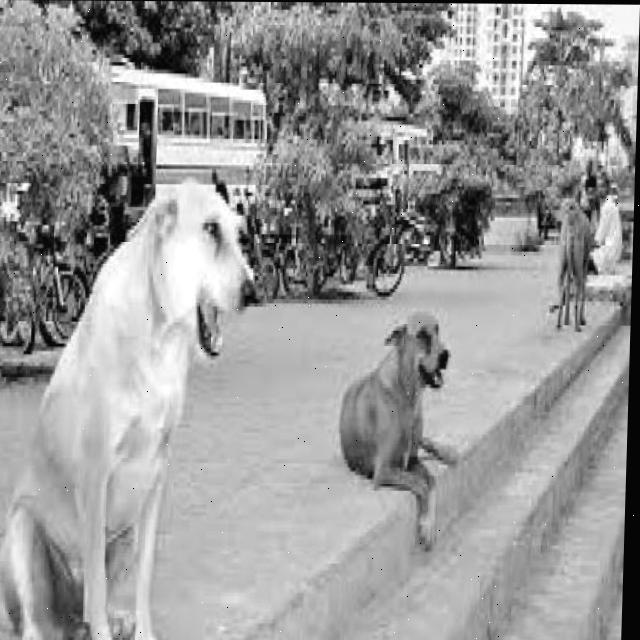Dog: (0, 179, 262, 637), (334, 263, 468, 552), (549, 200, 597, 337)
